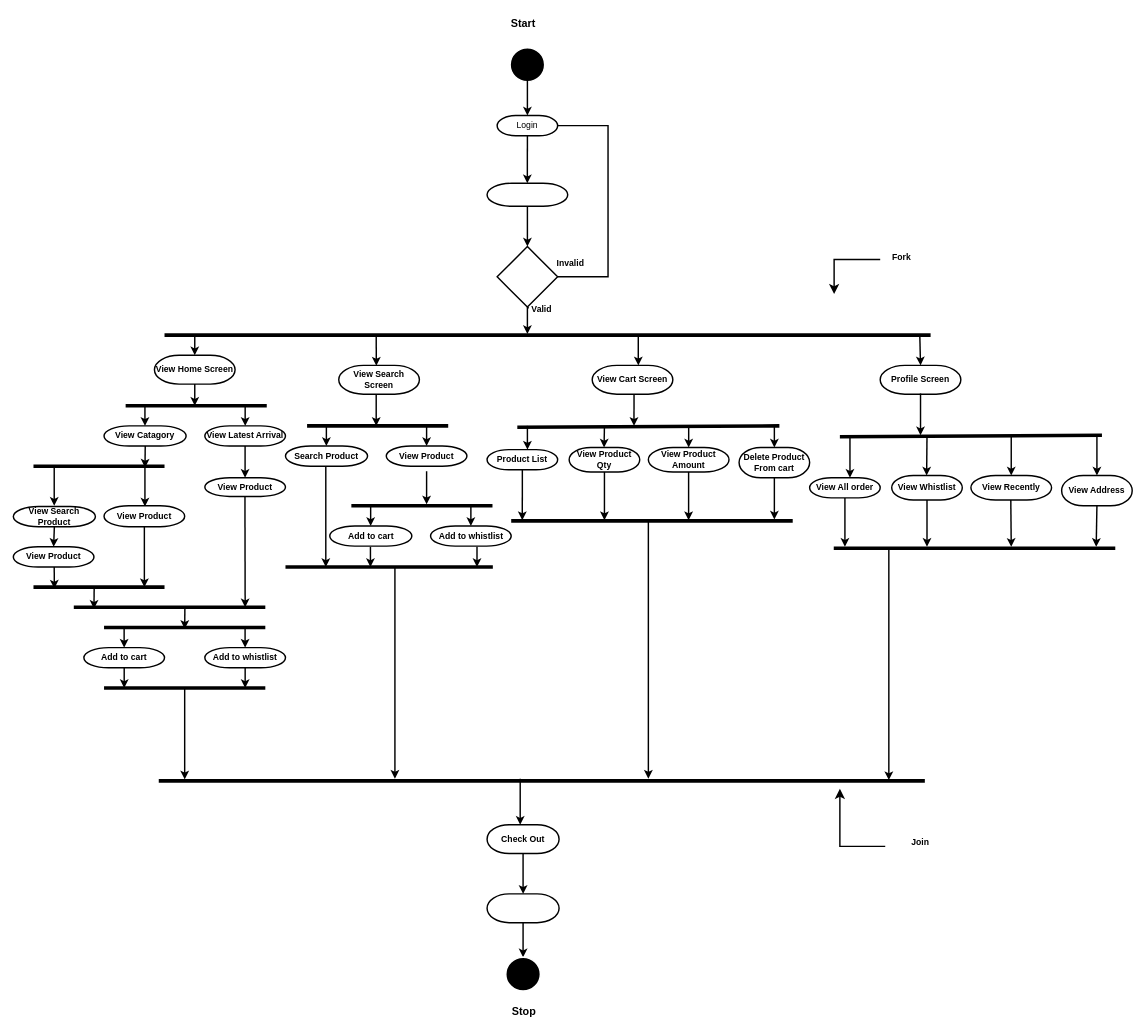
The diagram is 1145 pixels wide and 1034 high, and some of its shapes have lost their labels. The shapes that lost their labels are listed below. From the top down, each one's centre as x and y in pixels, then its label:
point 527,194: Authentication
point 527,276: Check
point 522,908: Log out
